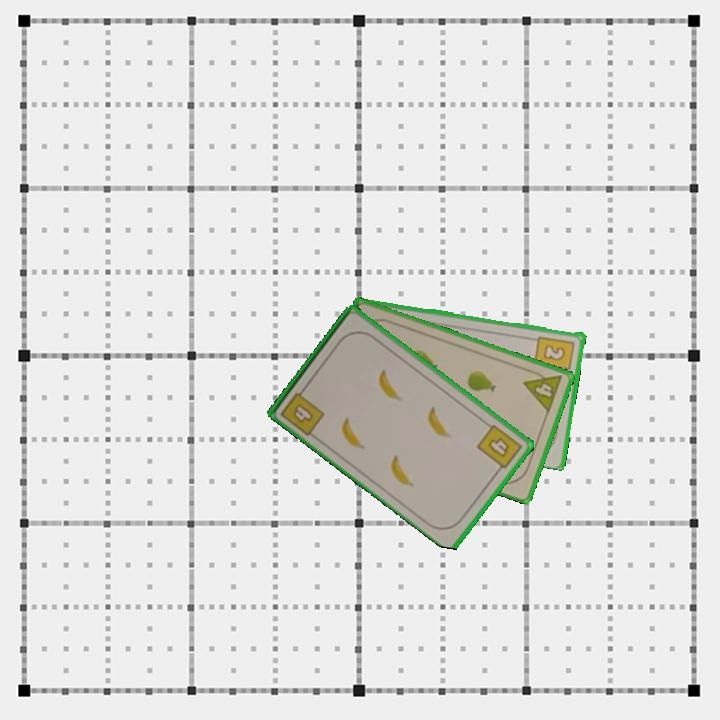2b: (531, 332, 577, 379)
4b: (473, 421, 525, 476), (277, 382, 328, 438)
4p: (520, 365, 565, 415)
